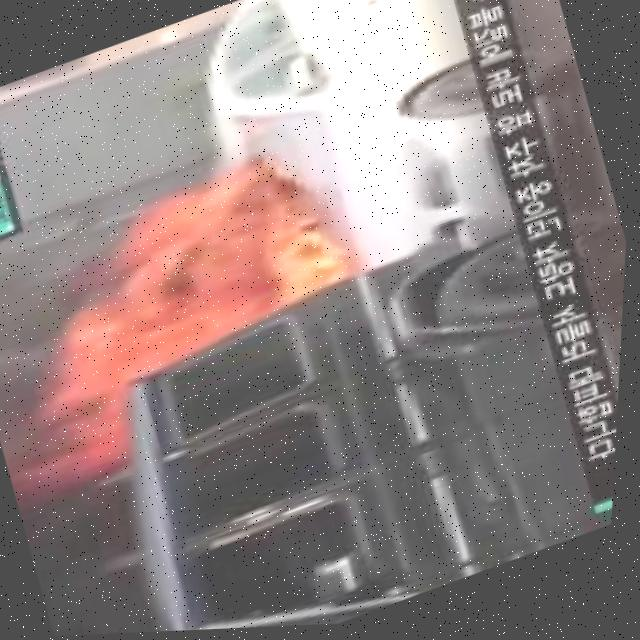Fire: (21, 158, 365, 413)
